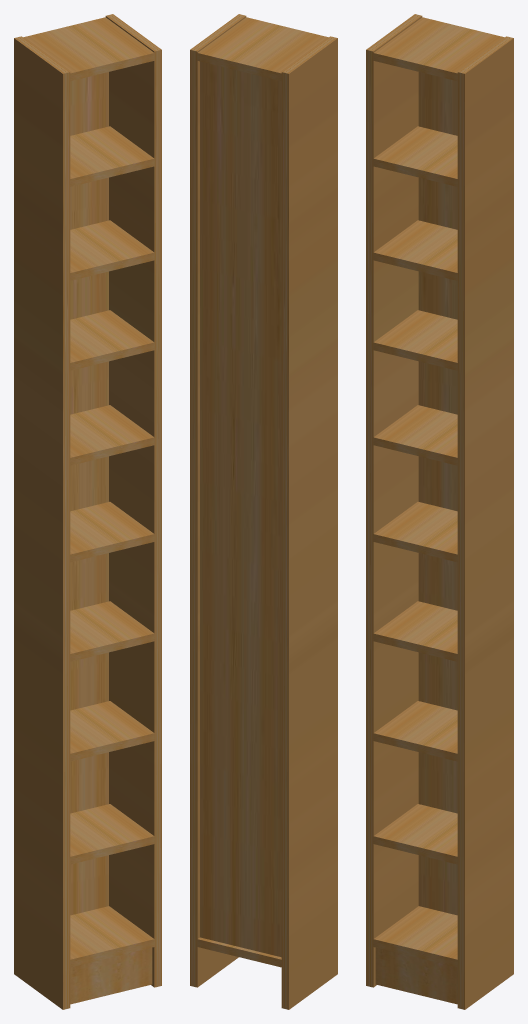
Rendered from sweethome3d-contributions-cd-rack-342.glb.
3 renders of one model, left to right at view 1: azimuth 30°, elevation 25°; view 2: azimuth 150°, elevation 25°; view 3: azimuth 330°, elevation 25°, orthographic.
Parts seen in each view (by area): view 1: Cube_2_1_3, Cube_2_2, Cube_4_14, Cube_3_4, Cube_3_8_12, Cube_3_1_5, Cube_3_3_7, Cube_3_5_9, Cube_3_6_10, Cube_3_7_11, Cube_3_9_13, Cube_3_2_6 (+2 smaller); view 2: Cube_4_14, Cube_2_1_3, Cube_2_2, Cube_3_4, Cube_3_8_12; view 3: Cube_2_2, Cube_2_1_3, Cube_4_14, Cube_3_4, Cube_3_8_12, Cube_3_1_5, Cube_3_3_7, Cube_3_5_9, Cube_3_6_10, Cube_3_7_11, Cube_3_9_13, Cube_3_2_6 (+2 smaller).
Boxes of the visible parts, left/top/right/bottom form: Cube_2_1_3: left=14, top=36, right=70, bottom=1009; Cube_2_2: left=105, top=14, right=161, bottom=987; Cube_4_14: left=70, top=72, right=108, bottom=915; Cube_3_4: left=23, top=17, right=154, bottom=81; Cube_3_8_12: left=70, top=906, right=154, bottom=967; Cube_3_1_5: left=70, top=126, right=154, bottom=186; Cube_3_3_7: left=70, top=405, right=154, bottom=465; Cube_3_5_9: left=70, top=601, right=154, bottom=661; Cube_3_6_10: left=70, top=701, right=154, bottom=761; Cube_3_7_11: left=70, top=804, right=154, bottom=864; Cube_3_9_13: left=70, top=310, right=154, bottom=370; Cube_3_2_6: left=70, top=220, right=154, bottom=280; Cube_4_14: left=200, top=61, right=281, bottom=957; Cube_2_1_3: left=281, top=36, right=337, bottom=1009; Cube_2_2: left=190, top=14, right=246, bottom=987; Cube_3_4: left=197, top=17, right=328, bottom=81; Cube_3_8_12: left=197, top=937, right=281, bottom=967; Cube_2_2: left=457, top=36, right=513, bottom=1009; Cube_2_1_3: left=366, top=14, right=422, bottom=987; Cube_4_14: left=418, top=72, right=457, bottom=915; Cube_3_4: left=373, top=17, right=504, bottom=81; Cube_3_8_12: left=373, top=906, right=457, bottom=967; Cube_3_1_5: left=373, top=126, right=457, bottom=186; Cube_3_3_7: left=373, top=405, right=457, bottom=465; Cube_3_5_9: left=373, top=601, right=457, bottom=661; Cube_3_6_10: left=373, top=701, right=457, bottom=761; Cube_3_7_11: left=373, top=804, right=457, bottom=864; Cube_3_9_13: left=373, top=310, right=457, bottom=370; Cube_3_2_6: left=373, top=220, right=457, bottom=280.
Bounding box in the file's own units: 19.88 × 180 × 17.
1 material, 1 textured.
